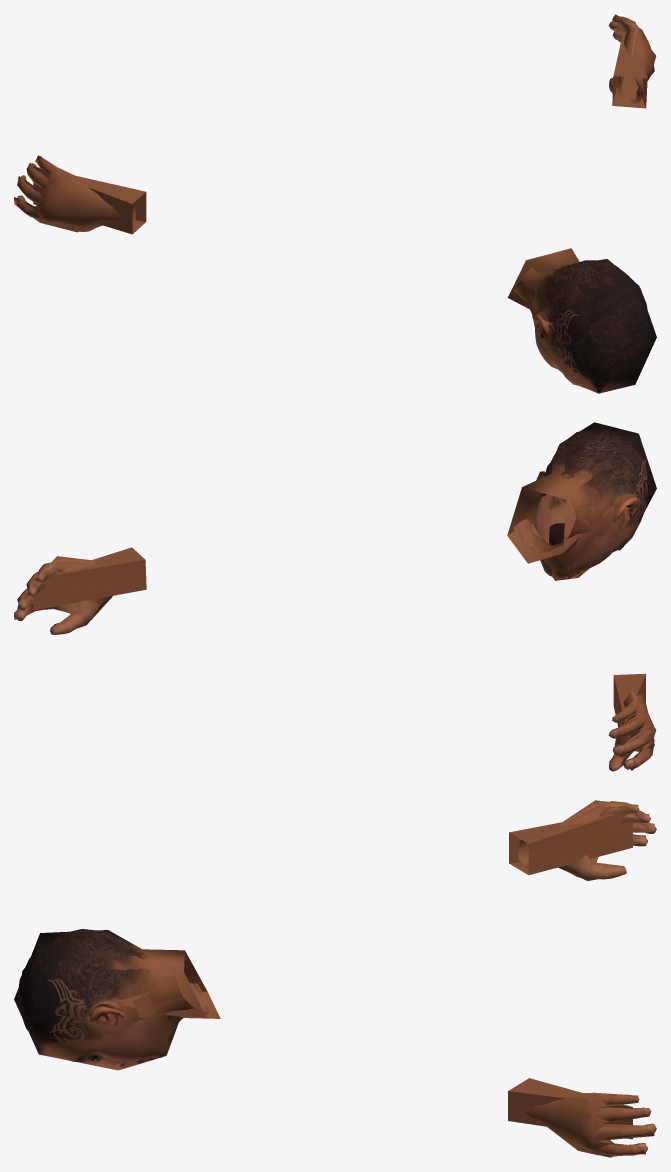
File: head_003_r.obj
The picture shows the model from 3 angles, top to bottom: view 1: azimuth 30°, elevation 25°; view 2: azimuth 150°, elevation 25°; view 3: azimuth 270°, elevation 25°; orthographic projection. The views are drawn at different scales.
Parts seen in each view (by area): view 1: head_003_r_high_1, head_003_r_low_1, head_003_r_med_1; view 2: head_003_r_low_1, head_003_r_high_1, head_003_r_med_1; view 3: head_003_r_high_1, head_003_r_low_1, head_003_r_med_1.
Boxes of the visible parts, <box> form: head_003_r_high_1: <box>16,16,656,388</box>; head_003_r_low_1: <box>33,31,656,393</box>; head_003_r_med_1: <box>14,14,650,386</box>; head_003_r_low_1: <box>33,422,656,760</box>; head_003_r_high_1: <box>16,429,656,771</box>; head_003_r_med_1: <box>14,463,654,770</box>; head_003_r_high_1: <box>18,801,656,1157</box>; head_003_r_low_1: <box>14,813,632,1139</box>; head_003_r_med_1: <box>22,800,654,1155</box>.
Size of the model in its own units: 1.09 by 0.2183 by 0.9365.
